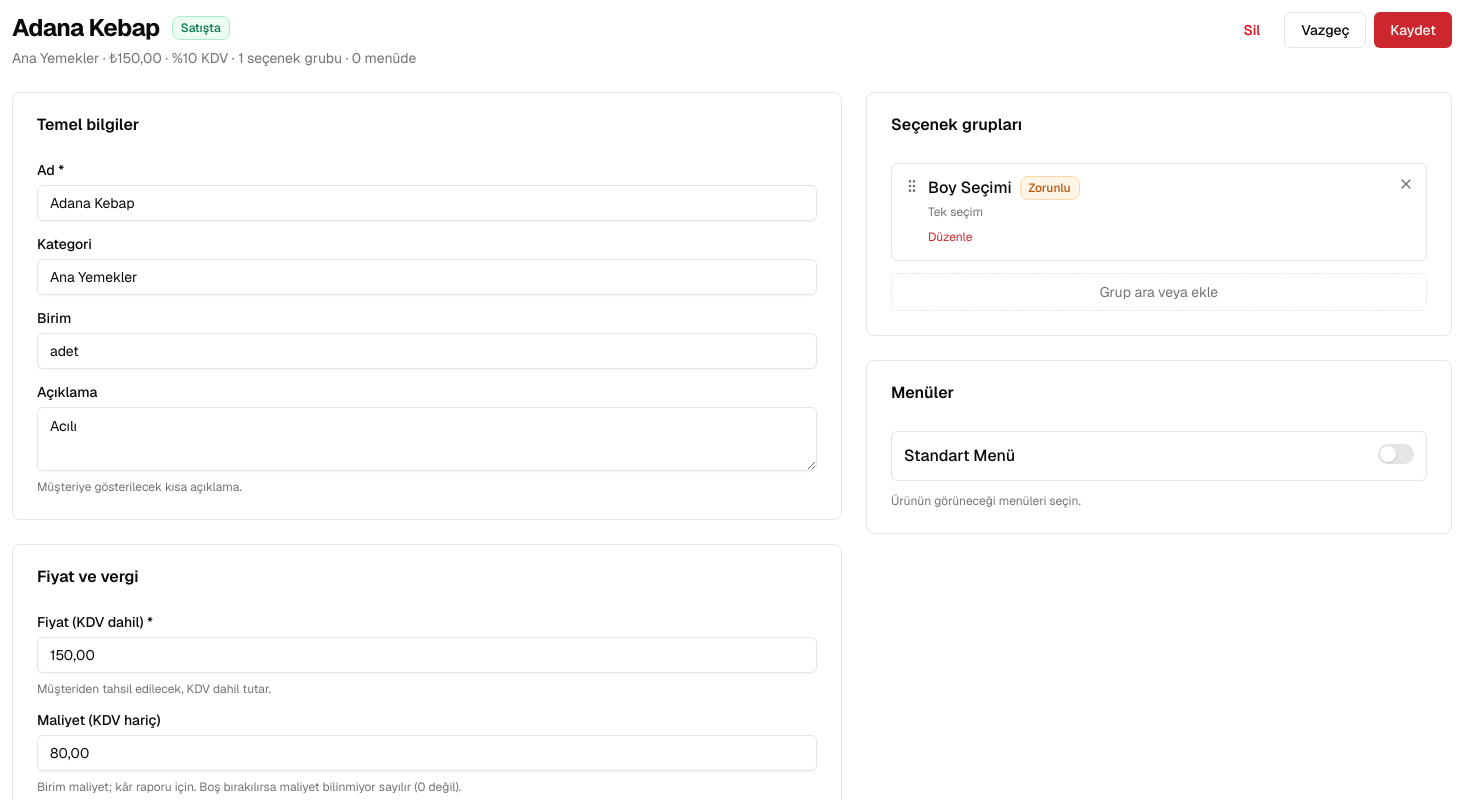
ProductEditor › blocks save and shows an inline error when the name is cleared
The image size is (1464, 800).
Clear the field labelled "Ad *": (427, 203) x1=37 y1=185 x2=817 y2=221
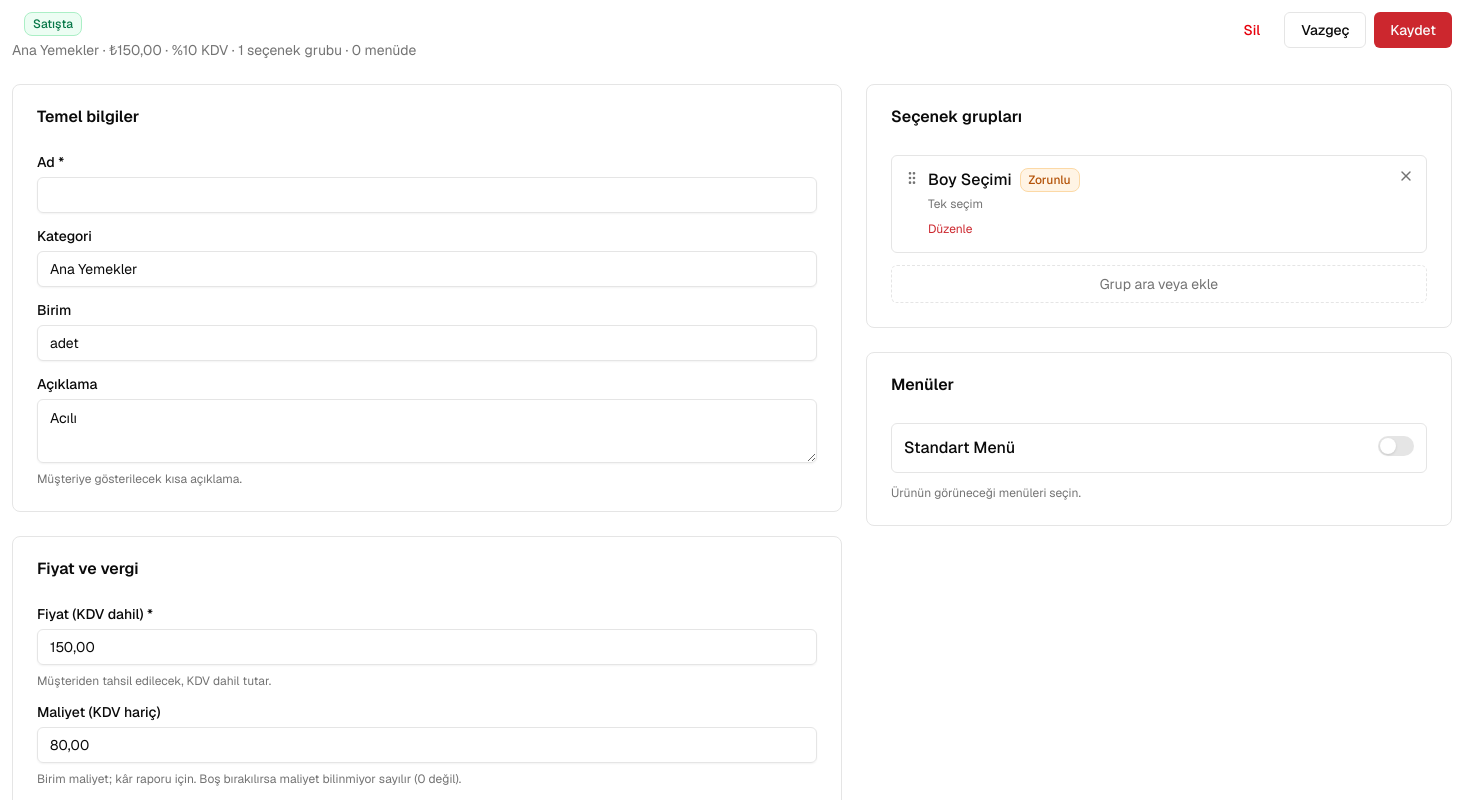
Click the button "Kaydet": (1413, 30) x1=1374 y1=12 x2=1452 y2=48
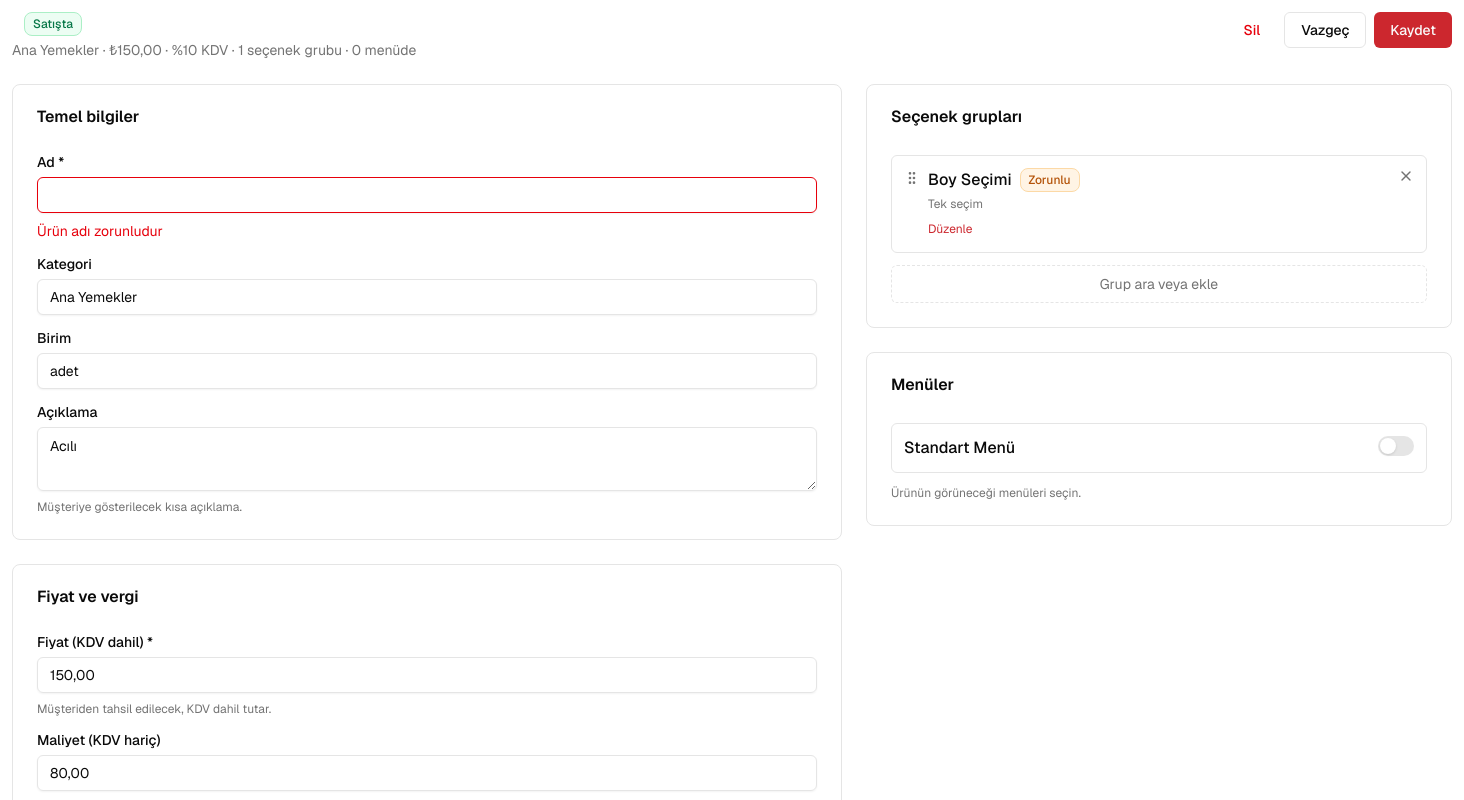
Result: the text "Ürün adı zorunludur" is shown at x1=37 y1=222 x2=163 y2=240
